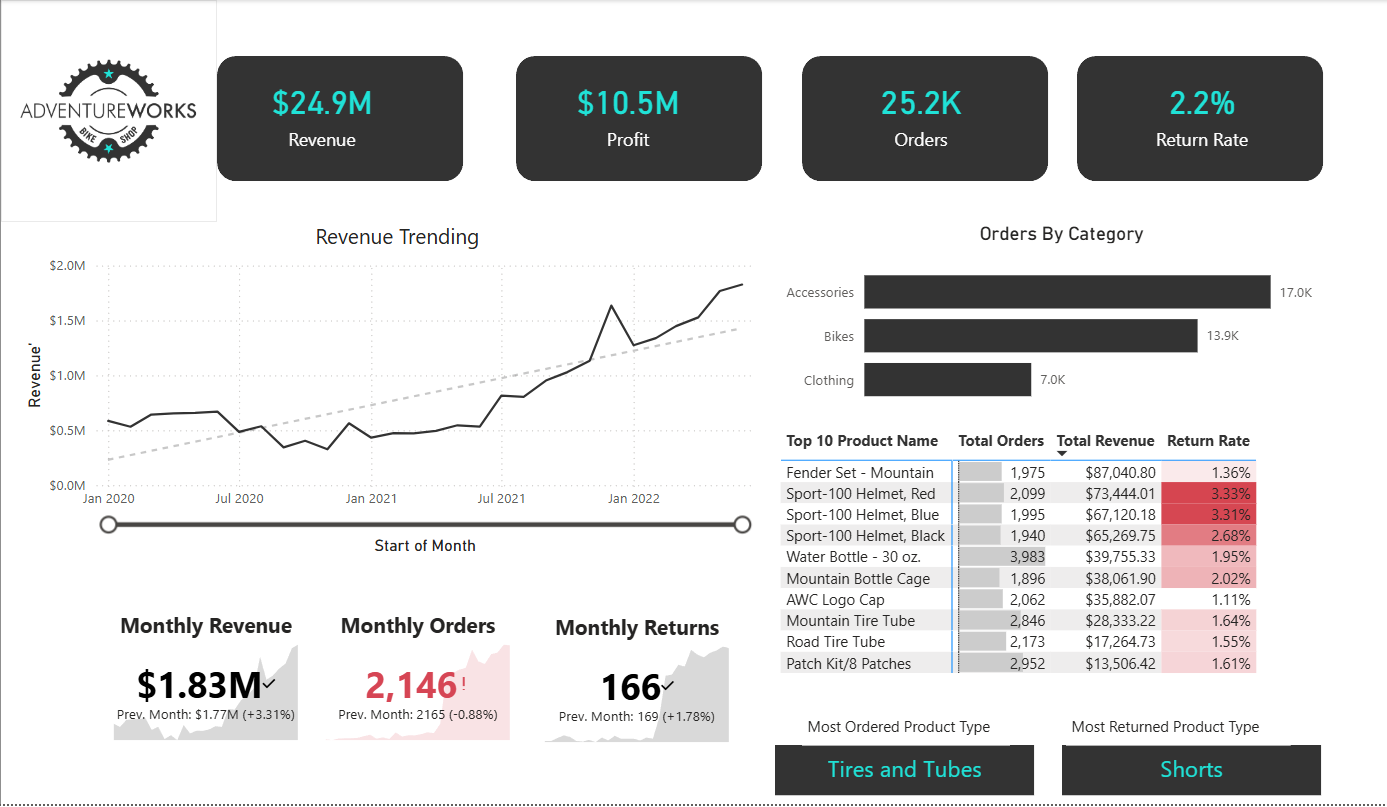

The dashboard page shown, as its layout file describes it:
{"tool":"powerbi","page":{"name":"Exec. Dashboard","canvas":[1280,720],"ordinal":0},"visuals":[{"type":"image","title":"awlogo","box":[39.2,0,193.2,198.6],"z":0},{"type":"shape","box":[232.4,50,220.6,112.2],"z":0,"group":"g1"},{"type":"card","fields":{"Values":["MeasureTable.total_profit"]},"box":[521.6,50,159.5,100],"z":0,"group":"g2"},{"type":"actionButton","box":[0,680.1,39.8,39.8],"z":0,"group":"g3"},{"type":"shape","title":"left nav background","box":[0,0,39.2,720.3],"z":1000},{"type":"shape","box":[500.5,50,220.6,112.2],"z":1000,"group":"g1"},{"type":"card","fields":{"Values":["MeasureTable.RETURN_RATE"]},"box":[1035.1,50,159.5,100],"z":1000,"group":"g2"},{"type":"actionButton","box":[0,549.5,39.8,39.8],"z":1000,"group":"g3"},{"type":"group","id":"g1","title":"kpi background","box":[232.4,50,990.5,112.2],"z":2000},{"type":"shape","box":[756.7,50,220.6,112.2],"z":2000,"group":"g1"},{"type":"card","fields":{"Values":["MeasureTable.Total_orders"]},"box":[783.8,50,159.5,100],"z":2000,"group":"g2"},{"type":"actionButton","box":[0,618,44.8,39.8],"z":2000,"group":"g3"},{"type":"card","fields":{"Values":["Sum(Sales Data.Revenue)"]},"box":[247.3,50,159.5,100],"z":3000,"group":"g2"},{"type":"group","id":"g2","title":"kpi values","box":[247.3,50,947.3,100],"z":3000},{"type":"shape","box":[1002.4,50,220.6,112.2],"z":3000,"group":"g1"},{"type":"actionButton","box":[0,494.8,39.8,39.8],"z":3000,"group":"g3"},{"type":"lineChart","title":"Revenue Trending","fields":{"Category":["Calendar Lookup.Year","Calendar Lookup.Start of Quarter","Calendar Lookup.Start of Month"],"Y":["MeasureTable.total_revenue"]},"box":[56.8,198.6,675.7,302.7],"z":4000},{"type":"kpi","title":"Monthly Revenue","fields":{"Goal":["MeasureTable.Previous_month_revenue"],"Indicator":["MeasureTable.total_revenue"],"TrendLine":["Calendar Lookup.Start of Month"]},"box":[135.6,547.3,175.4,120.7],"z":5000},{"type":"kpi","title":"Monthly Orders","fields":{"Goal":["MeasureTable.previous month orders"],"Indicator":["MeasureTable.Total_orders"],"TrendLine":["Calendar Lookup.Start of Month"]},"box":[324.7,547.3,175.4,120.7],"z":6000},{"type":"kpi","title":"Monthly Returns","fields":{"Goal":["MeasureTable.previous month returns"],"Indicator":["MeasureTable.Total_returns"],"TrendLine":["Calendar Lookup.Start of Month"]},"box":[521.2,548.6,175.4,120.7],"z":7000},{"type":"barChart","title":"Orders By Category","fields":{"Category":["Product Categories Lookup.CategoryName"],"Y":["MeasureTable.Total_orders"]},"box":[732.4,198.6,513.5,178.4],"z":8000},{"type":"pivotTable","fields":{"Rows":["Product Lookup.ProductName"],"Values":["MeasureTable.Total_orders","MeasureTable.total_revenue","MeasureTable.RETURN_RATE"]},"box":[732.4,379.7,504.1,245.9],"z":9000},{"type":"card","fields":{"Values":["Min(Product Subcategories Lookup.SubcategoryName)"]},"box":[732.4,667.6,232.4,44.6],"z":10000},{"type":"textbox","box":[756.8,636.5,186.5,31.1],"z":11000},{"type":"card","fields":{"Values":["Min(Product Subcategories Lookup.SubcategoryName)"]},"box":[989.2,667.6,232.4,44.6],"z":12000},{"type":"textbox","box":[993.2,636.5,201.4,31.1],"z":13000},{"type":"actionButton","box":[0,10,39.8,39.8],"z":14000},{"type":"group","id":"g3","title":"Navigationbuttons","box":[0,494.8,44.8,225.2],"z":15000},{"type":"actionButton","box":[0,49.8,39.8,39.8],"z":16000}]}

Visuals, with their boxes on the page's 1280x720 design canvas (x1, y1, x2, y2). These are canvas units, not pixel positions in the 1387x807 screenshot, which may show the page scaled, cropped or inside an application window:
"awlogo" image: <box>39,0,232,199</box>
shape: <box>232,50,453,162</box>
card - MeasureTable.total_profit: <box>522,50,681,150</box>
actionButton: <box>0,680,40,720</box>
"left nav background" shape: <box>0,0,39,720</box>
shape: <box>500,50,721,162</box>
card - MeasureTable.RETURN_RATE: <box>1035,50,1195,150</box>
actionButton: <box>0,550,40,589</box>
"kpi background" group: <box>232,50,1223,162</box>
shape: <box>757,50,977,162</box>
card - MeasureTable.Total_orders: <box>784,50,943,150</box>
actionButton: <box>0,618,45,658</box>
card - Sum(Sales Data.Revenue): <box>247,50,407,150</box>
"kpi values" group: <box>247,50,1195,150</box>
shape: <box>1002,50,1223,162</box>
actionButton: <box>0,495,40,535</box>
"Revenue Trending" lineChart: <box>57,199,732,501</box>
"Monthly Revenue" kpi: <box>136,547,311,668</box>
"Monthly Orders" kpi: <box>325,547,500,668</box>
"Monthly Returns" kpi: <box>521,549,697,669</box>
"Orders By Category" barChart: <box>732,199,1246,377</box>
pivotTable - Product Lookup.ProductName x MeasureTable.Total_orders: <box>732,380,1236,626</box>
card - Min(Product Subcategories Lookup.SubcategoryName): <box>732,668,965,712</box>
textbox: <box>757,636,943,668</box>
card - Min(Product Subcategories Lookup.SubcategoryName): <box>989,668,1222,712</box>
textbox: <box>993,636,1195,668</box>
actionButton: <box>0,10,40,50</box>
"Navigationbuttons" group: <box>0,495,45,720</box>
actionButton: <box>0,50,40,90</box>
